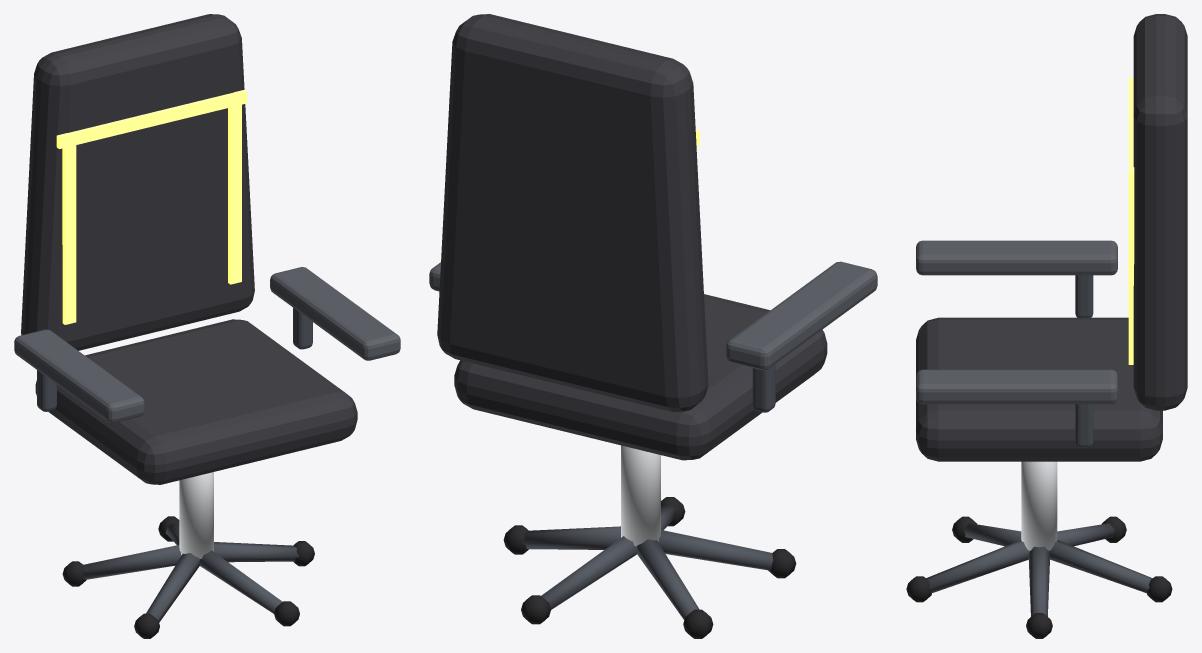
Rendered from office_chair_command.glb.
3 views of the same model, side by side, from view 1: azimuth 30°, elevation 25°; view 2: azimuth 150°, elevation 25°; view 3: azimuth 270°, elevation 25° (orthographic). The views are drawn at different scales.
Visible parts, largest first — view 1: GD_office_chair_command__m3, GD_office_chair_command__m4, GD_office_chair_command__m5, GD_office_chair_command__m0, GD_office_chair_command__m2, GD_office_chair_command__m1; view 2: GD_office_chair_command__m3, GD_office_chair_command__m0, GD_office_chair_command__m4, GD_office_chair_command__m2, GD_office_chair_command__m1; view 3: GD_office_chair_command__m3, GD_office_chair_command__m4, GD_office_chair_command__m0, GD_office_chair_command__m2, GD_office_chair_command__m1, GD_office_chair_command__m5.
Part boxes in pixels (bbox=[...]): GD_office_chair_command__m3: bbox=[21, 14, 357, 484]; GD_office_chair_command__m4: bbox=[14, 267, 400, 423]; GD_office_chair_command__m5: bbox=[56, 89, 247, 324]; GD_office_chair_command__m0: bbox=[37, 308, 312, 622]; GD_office_chair_command__m2: bbox=[179, 472, 213, 558]; GD_office_chair_command__m1: bbox=[62, 516, 314, 638]; GD_office_chair_command__m3: bbox=[437, 14, 827, 460]; GD_office_chair_command__m0: bbox=[522, 364, 775, 619]; GD_office_chair_command__m4: bbox=[429, 261, 877, 370]; GD_office_chair_command__m2: bbox=[621, 445, 660, 546]; GD_office_chair_command__m1: bbox=[503, 497, 796, 638]; GD_office_chair_command__m3: bbox=[916, 14, 1187, 461]; GD_office_chair_command__m4: bbox=[916, 240, 1117, 404]; GD_office_chair_command__m0: bbox=[926, 275, 1152, 616]; GD_office_chair_command__m2: bbox=[1021, 461, 1057, 550]; GD_office_chair_command__m1: bbox=[906, 516, 1172, 638]; GD_office_chair_command__m5: bbox=[1128, 77, 1134, 364].
Bounding box in the file's own units: 0.78 × 1.3 × 0.6263.
